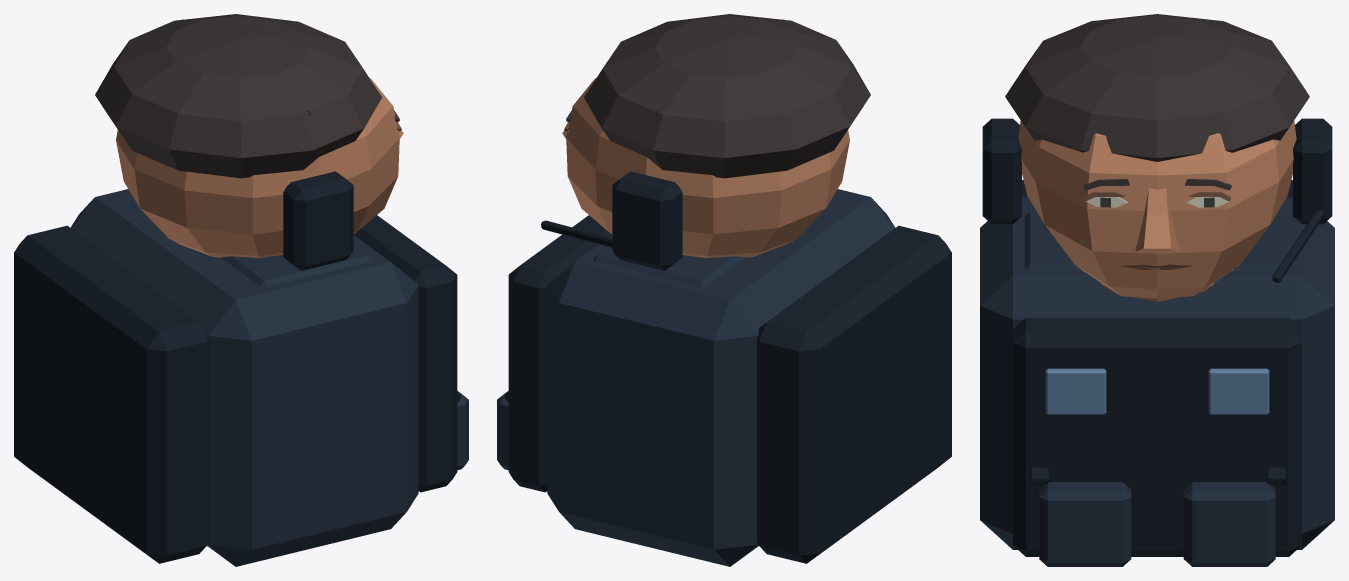
File: night-ops.helmet-off.glb
The picture shows the model from 3 angles, left to right: view 1: azimuth 30°, elevation 25°; view 2: azimuth 150°, elevation 25°; view 3: azimuth 270°, elevation 25°; orthographic projection. The views are drawn at different scales.
Visible parts, largest first — view 1: night-ops_helmet-off__main__torso_finish_222f3e_0.03, night-ops_helmet-off__main__torso_finish_151e29_0.03, night-ops_helmet-off__main__head_finish_393333_0.03, night-ops_helmet-off__main__head, night-ops_helmet-off__main__head_finish_151e29_0.03; view 2: night-ops_helmet-off__main__torso_finish_222f3e_0.03, night-ops_helmet-off__main__torso_finish_151e29_0.03, night-ops_helmet-off__main__head_finish_393333_0.03, night-ops_helmet-off__main__head, night-ops_helmet-off__main__head_finish_151e29_0.03; view 3: night-ops_helmet-off__main__torso_finish_222f3e_0.03, night-ops_helmet-off__main__torso_finish_151e29_0.03, night-ops_helmet-off__main__head_finish_393333_0.03, night-ops_helmet-off__main__head, night-ops_helmet-off__main__head_finish_151e29_0.03, night-ops_helmet-off__main__torso_finish_5f7fa2_0.03.
Part boxes in pixels (bbox=[...]): night-ops_helmet-off__main__torso_finish_222f3e_0.03: bbox=[70, 189, 468, 566]; night-ops_helmet-off__main__torso_finish_151e29_0.03: bbox=[14, 215, 461, 563]; night-ops_helmet-off__main__head_finish_393333_0.03: bbox=[95, 14, 381, 178]; night-ops_helmet-off__main__head: bbox=[116, 77, 403, 258]; night-ops_helmet-off__main__head_finish_151e29_0.03: bbox=[182, 19, 353, 270]; night-ops_helmet-off__main__torso_finish_222f3e_0.03: bbox=[497, 189, 895, 566]; night-ops_helmet-off__main__torso_finish_151e29_0.03: bbox=[504, 215, 951, 563]; night-ops_helmet-off__main__head_finish_393333_0.03: bbox=[584, 14, 870, 178]; night-ops_helmet-off__main__head: bbox=[562, 77, 849, 258]; night-ops_helmet-off__main__head_finish_151e29_0.03: bbox=[541, 19, 783, 270]; night-ops_helmet-off__main__torso_finish_222f3e_0.03: bbox=[980, 198, 1334, 566]; night-ops_helmet-off__main__torso_finish_151e29_0.03: bbox=[1013, 180, 1301, 556]; night-ops_helmet-off__main__head_finish_393333_0.03: bbox=[1005, 14, 1309, 161]; night-ops_helmet-off__main__head: bbox=[1018, 120, 1296, 298]; night-ops_helmet-off__main__head_finish_151e29_0.03: bbox=[982, 70, 1332, 282]; night-ops_helmet-off__main__torso_finish_5f7fa2_0.03: bbox=[1045, 368, 1269, 414].
Size of the model in its own units: 30.25 by 39.5 by 27.
